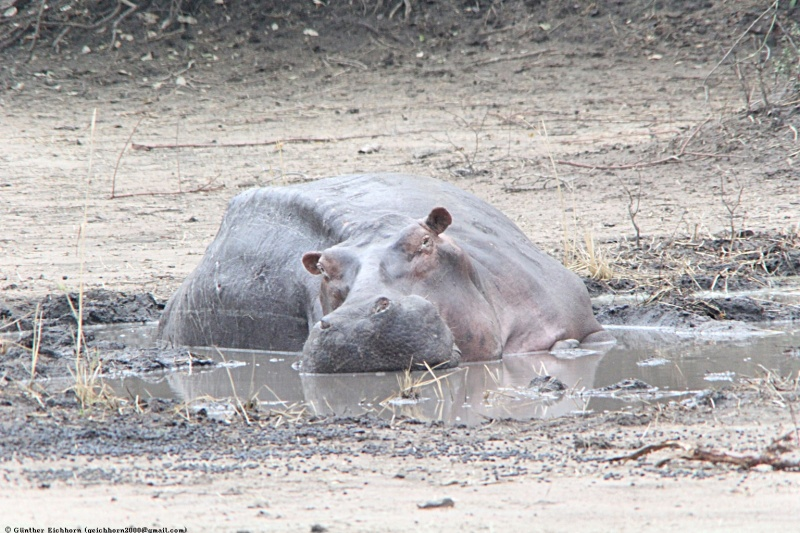hipopotamo: (153, 161, 619, 381)
